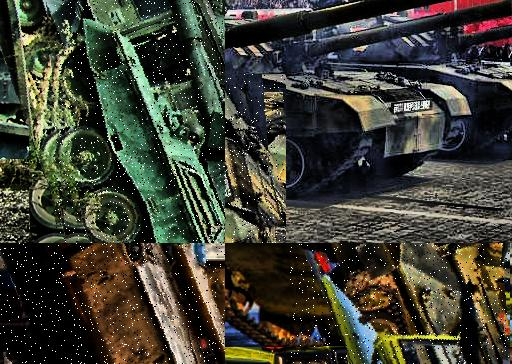tanks: (226, 24, 471, 196), (56, 1, 226, 244), (1, 244, 226, 364), (302, 244, 510, 364), (340, 26, 512, 150), (226, 1, 447, 50), (226, 97, 286, 244), (403, 1, 512, 34)
